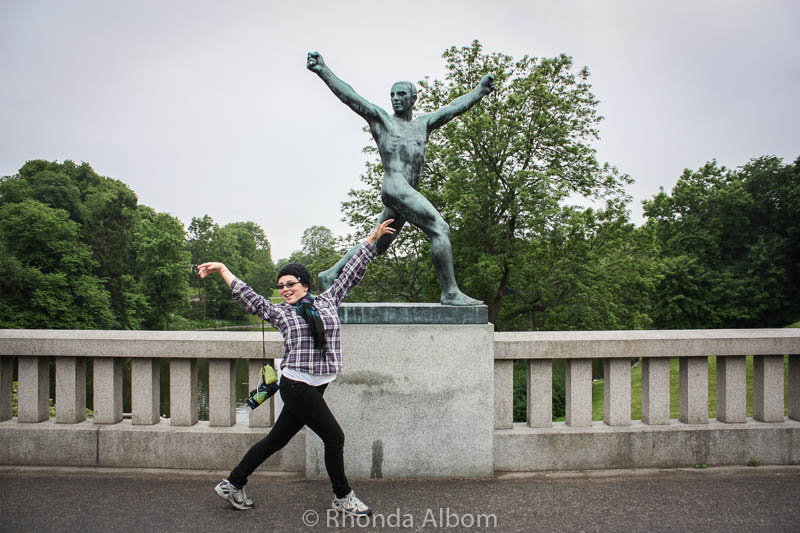person: (195, 215, 399, 518)
person-like: (305, 44, 498, 311)
